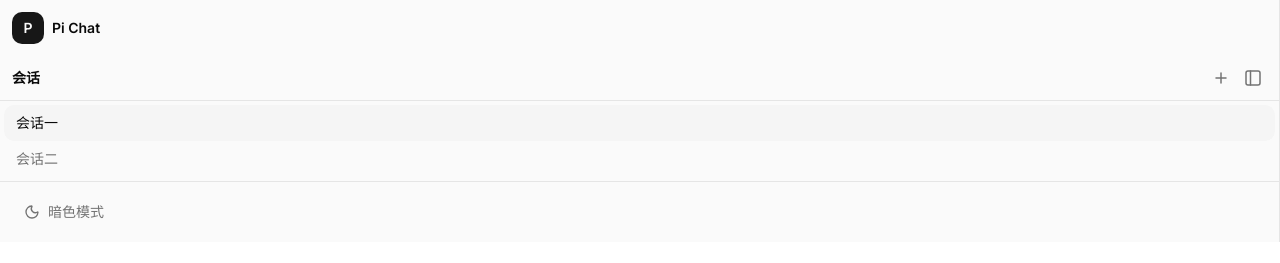
Test case: Sidebar 组件 - Issue #17 › 会话列表 CRUD › hover 时显示重命名和删除按钮
Expected: the text "会话一" is shown, left=16, top=114, right=58, bottom=131
Hover over the text "会话一" at x=640, y=123, box left=4, top=105, right=1275, bottom=141
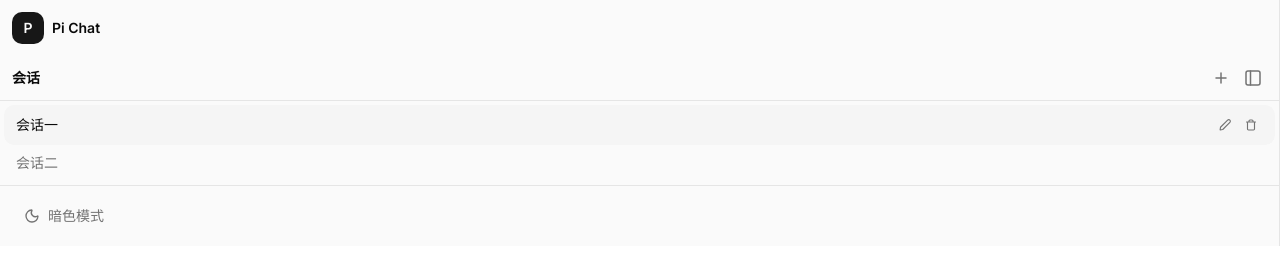
Expected: the button named "重命名" is shown, left=1213, top=113, right=1237, bottom=137
Expected: the button named "删除" is shown, left=1239, top=113, right=1263, bottom=137
